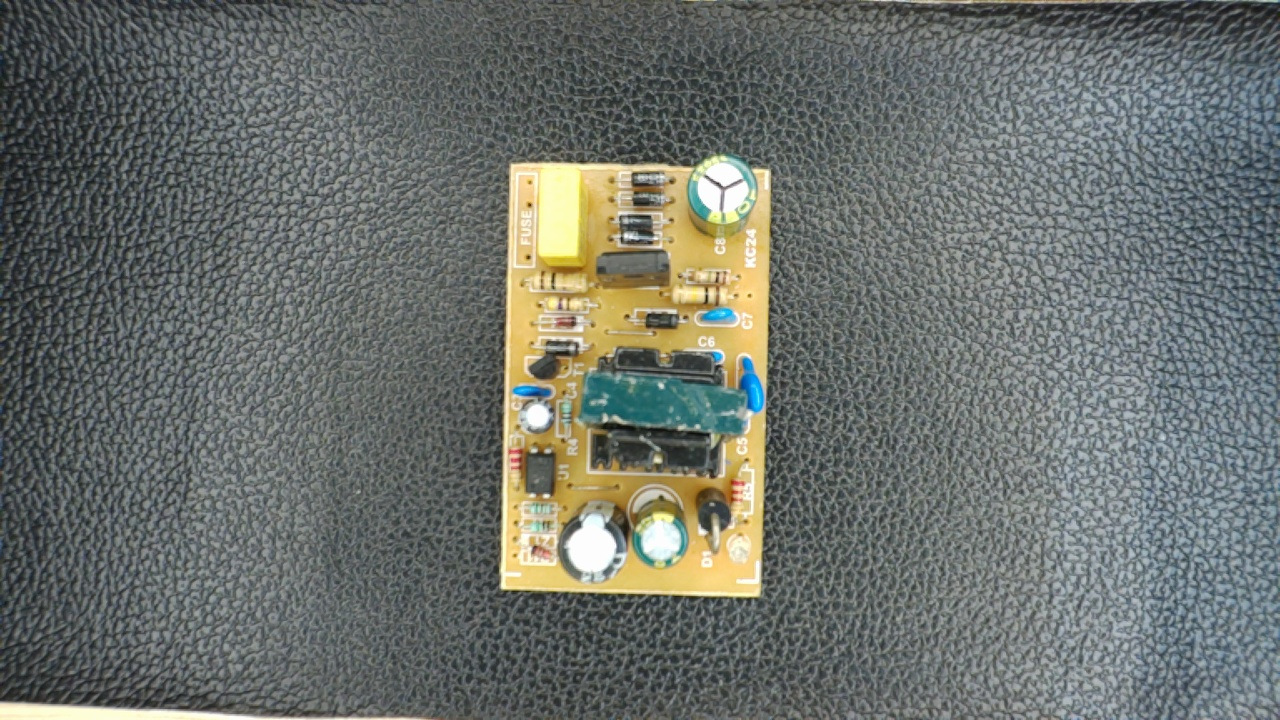hv_capacitor: (684, 152, 758, 237)
mov: (731, 353, 768, 417)
optocoupler: (518, 438, 561, 501)
